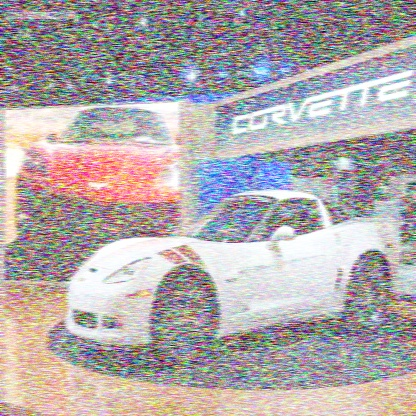Vehicle: (65, 188, 405, 370)
